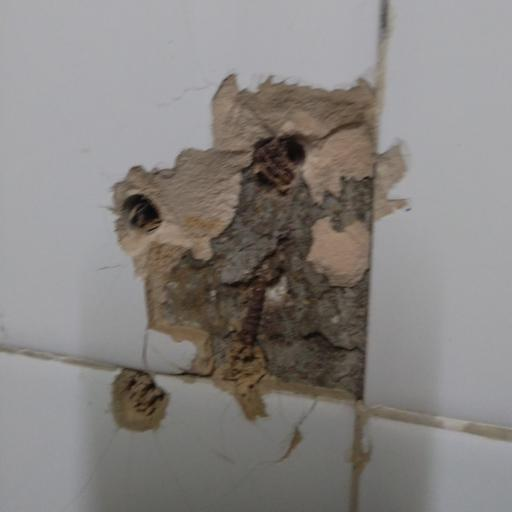spalling: (99, 69, 420, 452)
